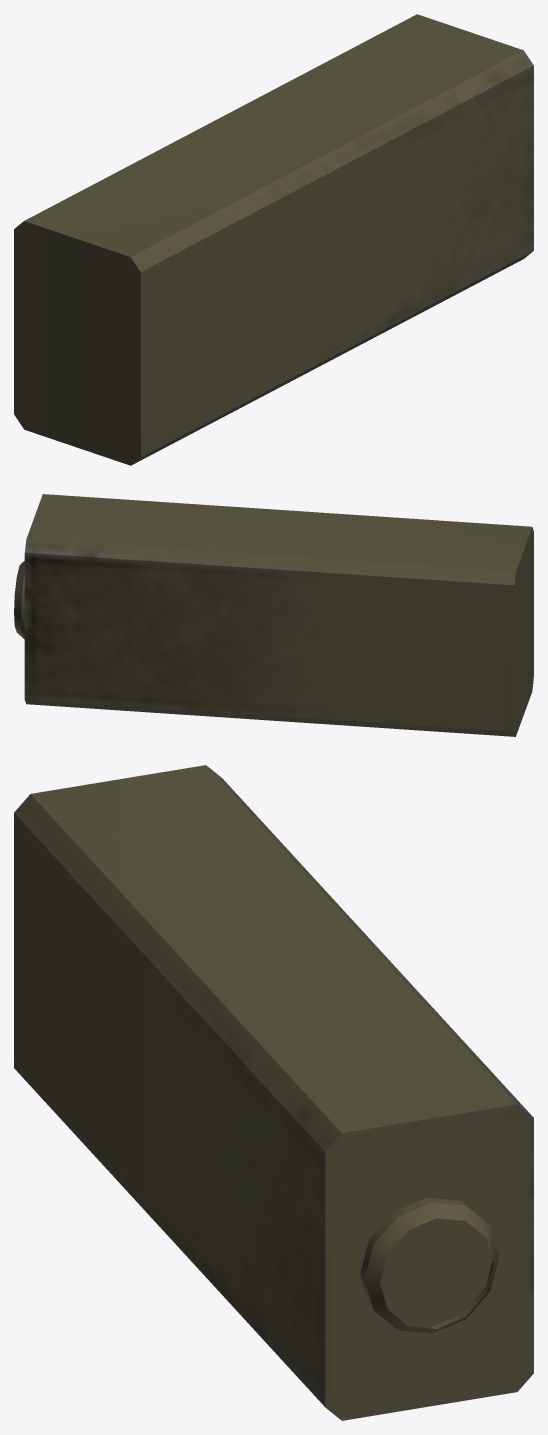
File: blade_cyl_barrel.obj
3 views of the same model, one above another, from view 1: azimuth 30°, elevation 25°; view 2: azimuth 150°, elevation 25°; view 3: azimuth 270°, elevation 25° (orthographic). The views are drawn at different scales.
Visible parts, largest first — view 1: Plow_mechanism_2.001; view 2: Plow_mechanism_2.001; view 3: Plow_mechanism_2.001.
Part boxes in pixels (x1,y1,x2,y2): Plow_mechanism_2.001: (14, 14, 533, 465); Plow_mechanism_2.001: (14, 494, 533, 736); Plow_mechanism_2.001: (14, 765, 533, 1420).
Size of the model in its own units: 0.418 by 0.1488 by 0.2432.
Materials: 1 (1 with a texture image).
